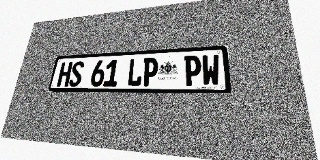1: (103, 59, 120, 86)
6: (90, 60, 106, 86)
H: (56, 62, 73, 87)
L: (126, 58, 143, 86)
P: (184, 55, 201, 86), (142, 57, 159, 86)
S: (68, 61, 85, 87)
W: (201, 54, 221, 86)
